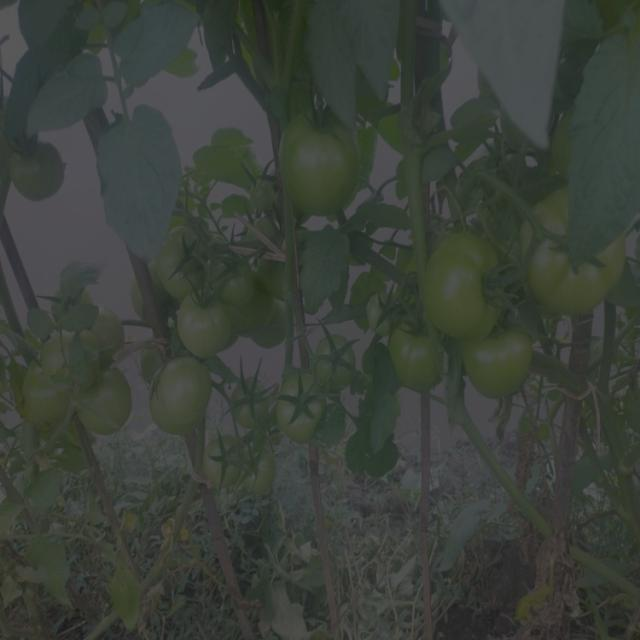tomato: (421, 230, 508, 341), (288, 113, 359, 221), (527, 195, 579, 311), (460, 333, 539, 400), (150, 356, 216, 433), (380, 318, 447, 393), (79, 365, 137, 437), (9, 132, 66, 201), (172, 290, 231, 356), (580, 235, 635, 304), (17, 362, 71, 430), (155, 218, 204, 290), (192, 428, 247, 489), (274, 370, 316, 437), (305, 336, 360, 386), (209, 251, 258, 305), (247, 290, 290, 350), (232, 374, 272, 432), (32, 326, 76, 378), (368, 289, 409, 343), (235, 452, 276, 495), (90, 314, 121, 361)
